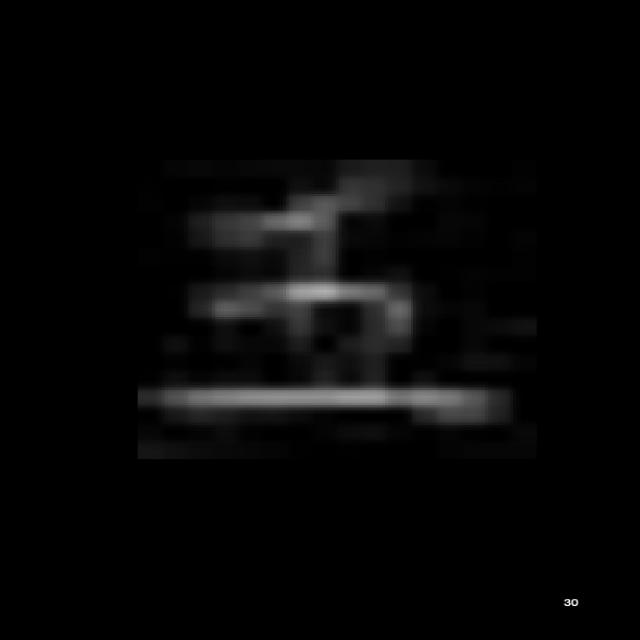5 -five-: (151, 167, 497, 426)
